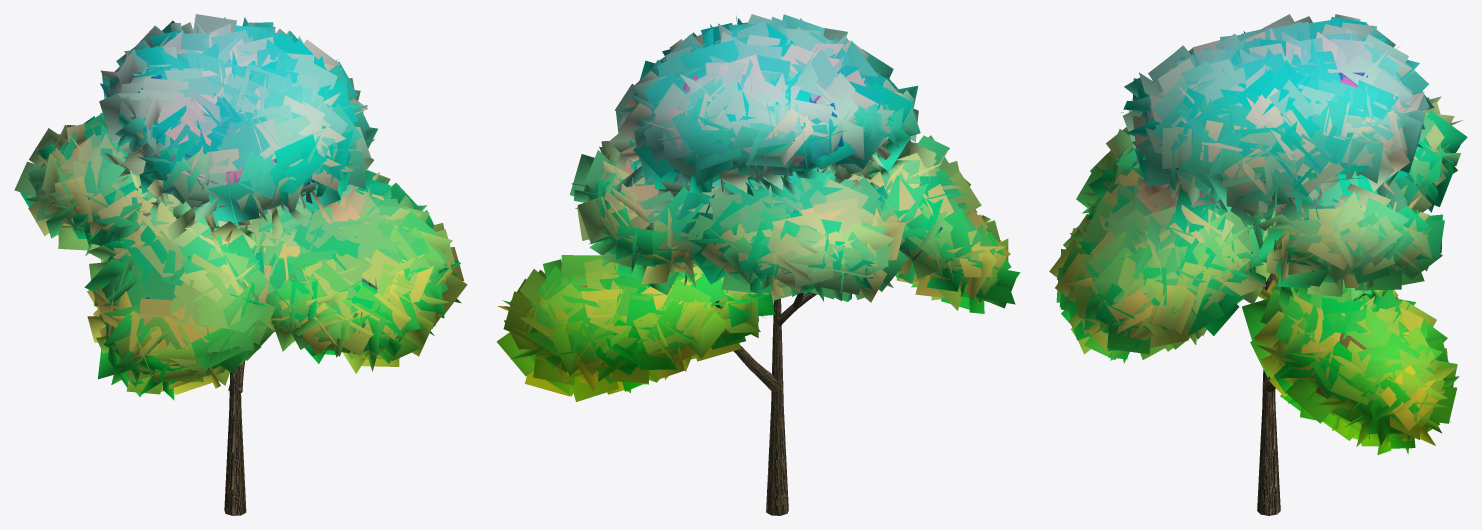
File: TR_Bang_0.fbx
The picture shows the model from 3 angles, left to right: view 1: azimuth 30°, elevation 25°; view 2: azimuth 150°, elevation 25°; view 3: azimuth 270°, elevation 25°; orthographic projection. The views are drawn at different scales.
Parts seen in each view (by area): view 1: TR_Bang_0_LOD0; view 2: TR_Bang_0_LOD0; view 3: TR_Bang_0_LOD0.
Boxes of the visible parts, x1,y1,x2,y2 form: TR_Bang_0_LOD0: (14,14,467,515); TR_Bang_0_LOD0: (496,14,1020,515); TR_Bang_0_LOD0: (1049,14,1467,515).
Size of what is drawn, in the model's own units: 11.11 by 12.7 by 9.94.
